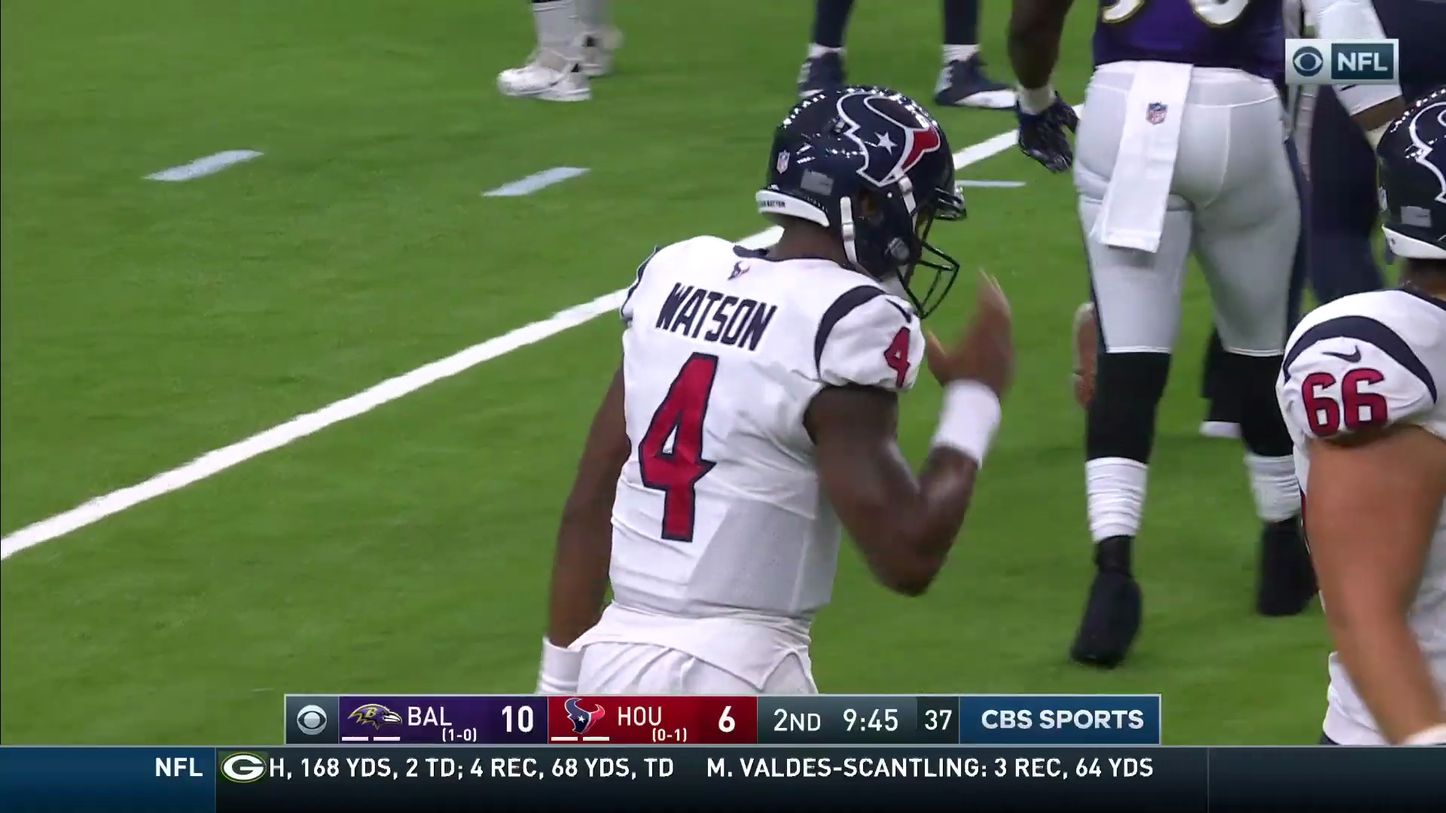Player: (537, 168, 968, 685), (1059, 0, 1299, 350)
